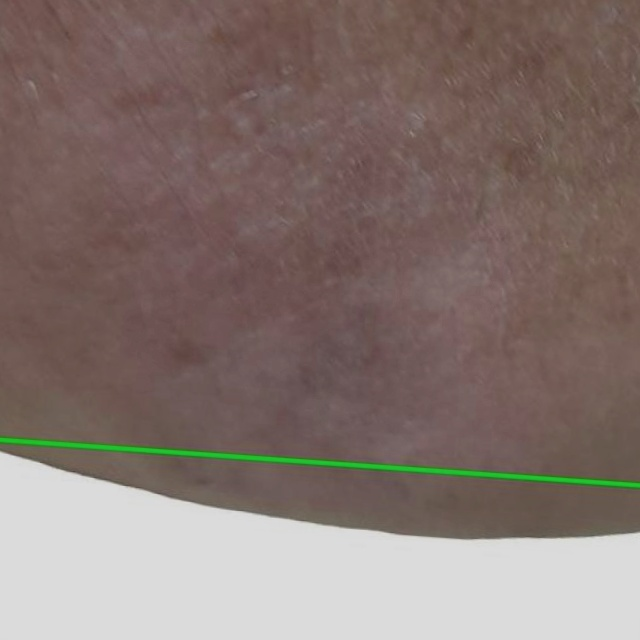Tinea Corporis: (0, 441, 639, 639)
